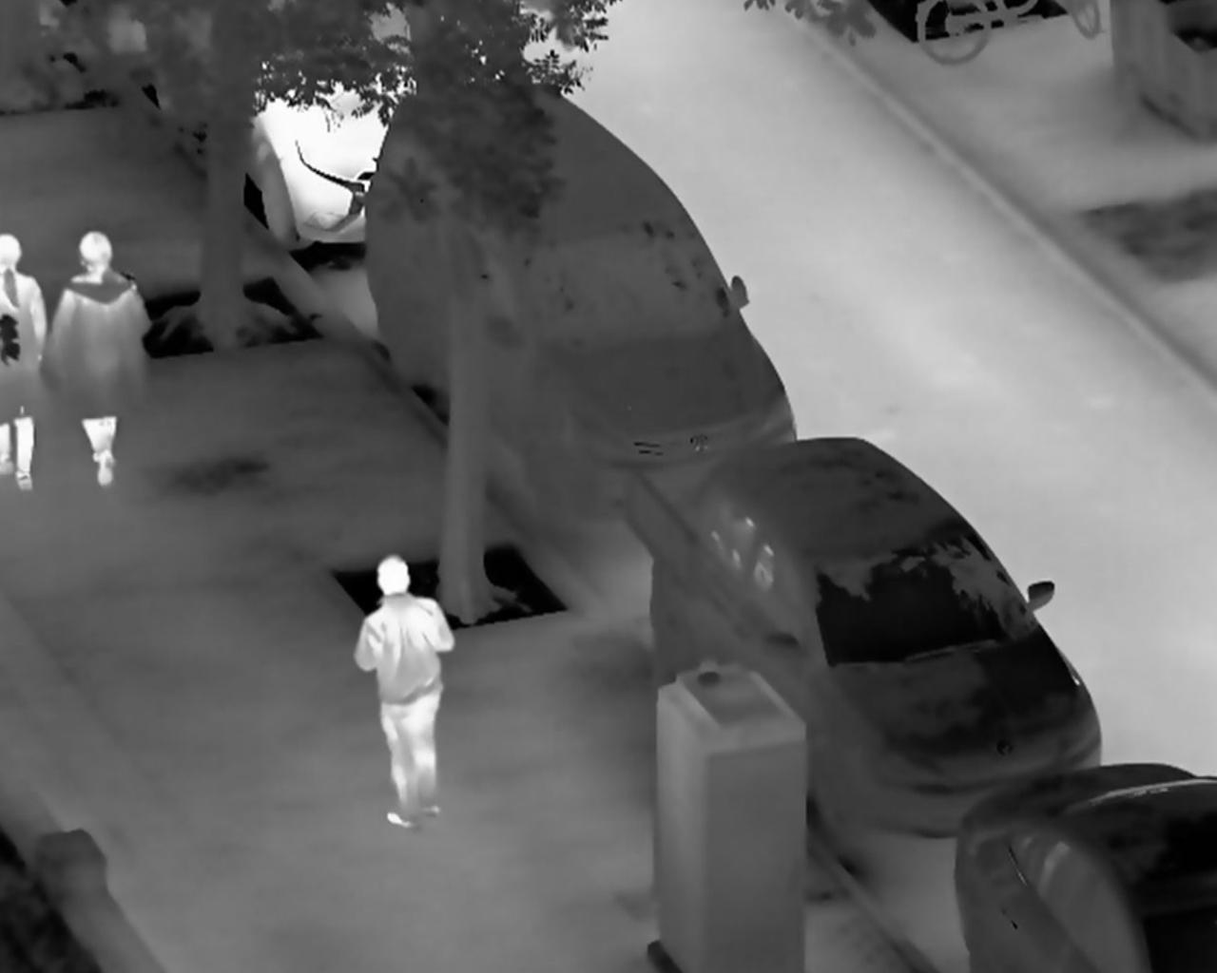person: (349, 550, 458, 833), (43, 229, 153, 489)
